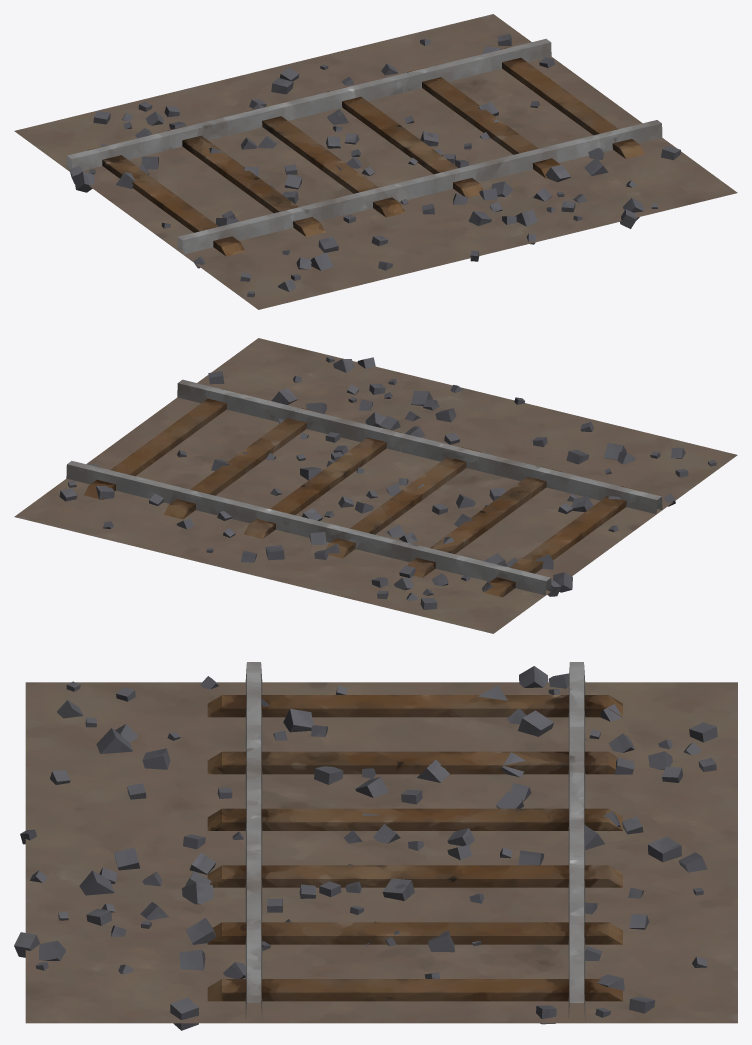
The model's file is RailsD.fbx.
The picture shows the model from 3 angles, top to bottom: view 1: azimuth 30°, elevation 25°; view 2: azimuth 150°, elevation 25°; view 3: azimuth 270°, elevation 25°; orthographic projection. The views are drawn at different scales.
Visible parts, largest first — view 1: RailsD; view 2: RailsD; view 3: RailsD.
Part boxes in pixels (x1,y1,x2,y2): RailsD: (14,14,737,309); RailsD: (14,338,737,633); RailsD: (14,662,737,1030).
Size of the model in its own units: 1018 by 51.8 by 898.
